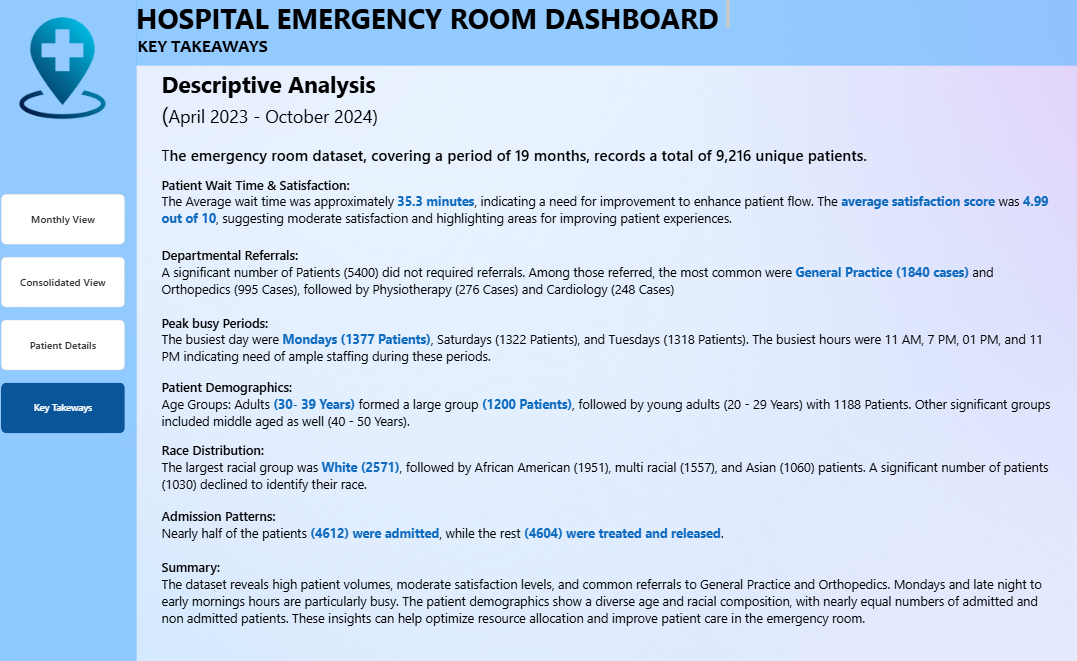

The dashboard page shown, as its layout file describes it:
{"tool":"powerbi","page":{"name":"Key Takeways","canvas":[2300,1400],"ordinal":3},"visuals":[{"type":"shape","box":[0,0,310,1401.1],"z":0},{"type":"shape","box":[308.6,0,1993,140],"z":1000},{"type":"textbox","box":[308.6,0,1246.8,69.3],"z":2000},{"type":"textbox","box":[310.3,75.9,420.7,48.3],"z":3000},{"type":"image","box":[48.3,0,213.8,289.7],"z":4000},{"type":"textbox","box":[361.5,146.2,634.6,142.3],"z":5000},{"type":"textbox","box":[361.5,303.8,1884.6,50],"z":6000},{"type":"textbox","box":[362.5,372.5,1882.5,122.5],"z":7000},{"type":"textbox","box":[362.5,520,1882.5,122.5],"z":8000},{"type":"textbox","box":[362.5,662.5,1882.5,117.5],"z":9000},{"type":"textbox","box":[362.5,797.5,1882.5,115],"z":10000},{"type":"textbox","box":[362.5,930,1882.5,117.5],"z":11000},{"type":"textbox","box":[362.5,1067.5,1882.5,85],"z":12000},{"type":"textbox","box":[362.5,1175,1882.5,160],"z":13000},{"type":"pageNavigator","box":[26.7,410,260,503.3],"z":14000}]}

Visuals, with their boxes on the page's 2300x1400 design canvas (x1, y1, x2, y2). These are canvas units, not pixel positions in the 1077x661 screenshot, which may show the page scaled, cropped or inside an application window:
shape: (0, 0, 310, 1401)
shape: (309, 0, 2302, 140)
textbox: (309, 0, 1555, 69)
textbox: (310, 76, 731, 124)
image: (48, 0, 262, 290)
textbox: (362, 146, 996, 288)
textbox: (362, 304, 2246, 354)
textbox: (362, 372, 2245, 495)
textbox: (362, 520, 2245, 642)
textbox: (362, 662, 2245, 780)
textbox: (362, 798, 2245, 912)
textbox: (362, 930, 2245, 1048)
textbox: (362, 1068, 2245, 1152)
textbox: (362, 1175, 2245, 1335)
pageNavigator: (27, 410, 287, 913)
